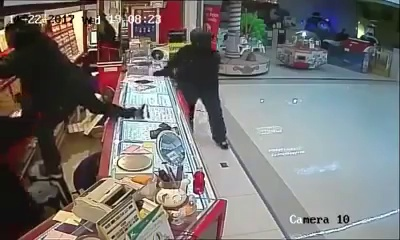helmet: (3, 10, 42, 45), (186, 26, 215, 49)
